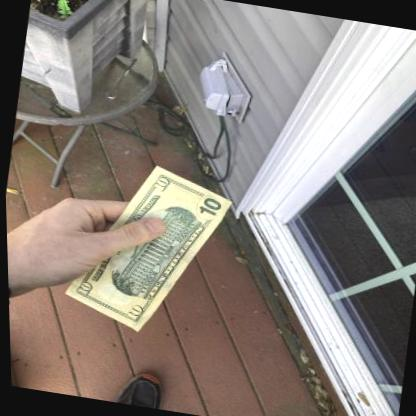ten-back: (62, 165, 233, 333)
